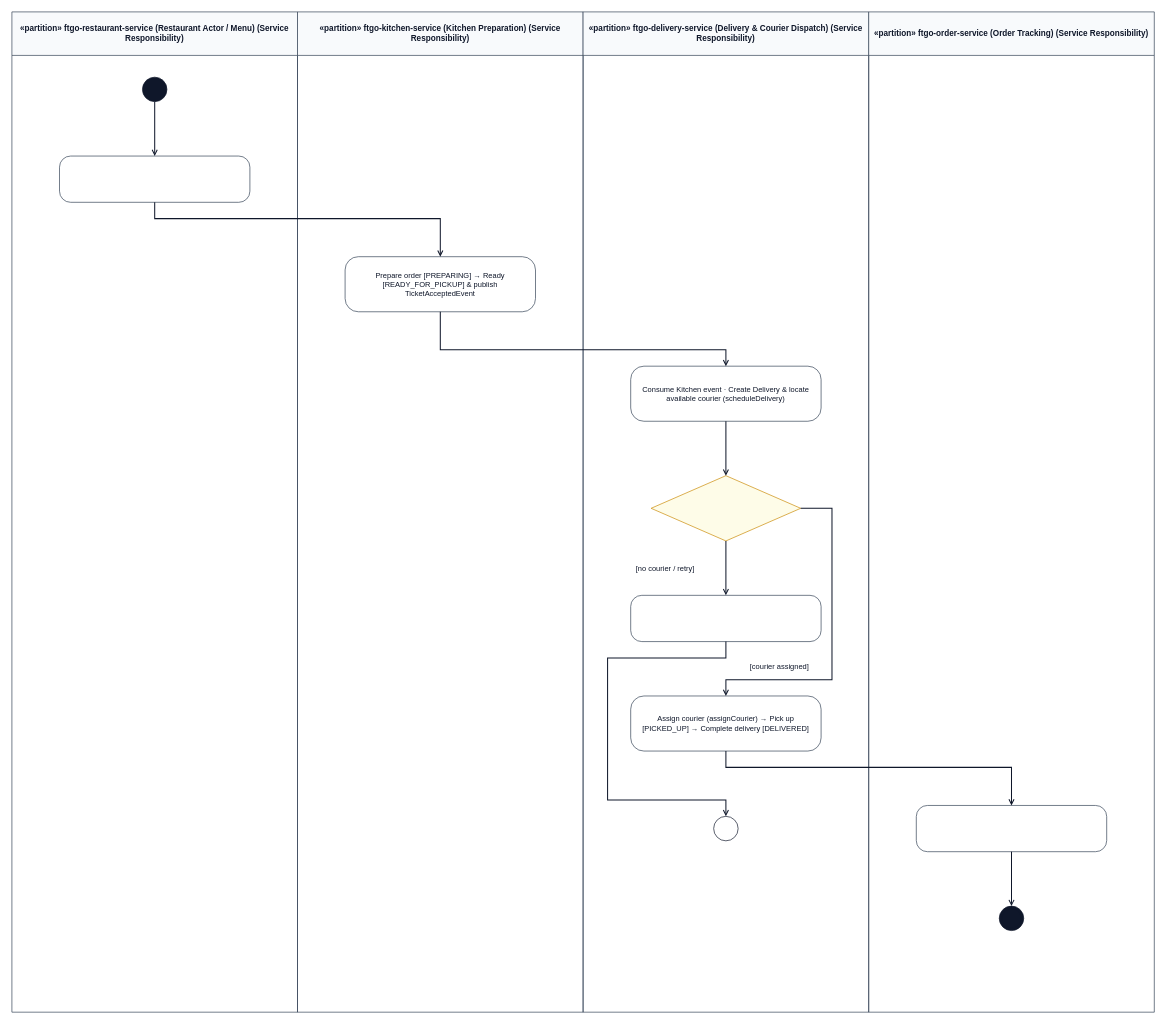
Image size: 1166x1024. Some labels were removed from this diagram. The centre of each missing label's shape, as x and y in pixels:
Available courier found?: (x=725, y=508)
Enqueue for courier dispatch retry (queuePendingDelivery): (x=725, y=618)
Restaurant accepts ticket & confirms preparation time (acceptTicket): (x=154, y=178)
Synchronize completed delivery status with customer order: (x=1011, y=828)
